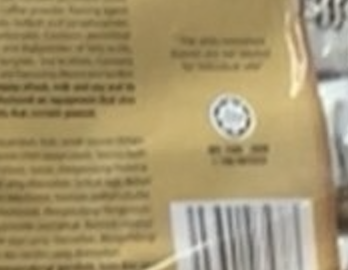halal: (217, 105, 250, 132)
